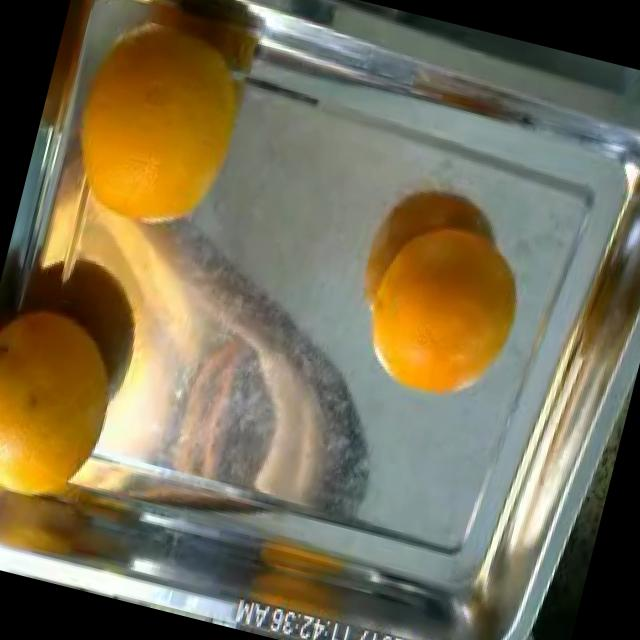Fruit: (140, 295, 390, 537)
